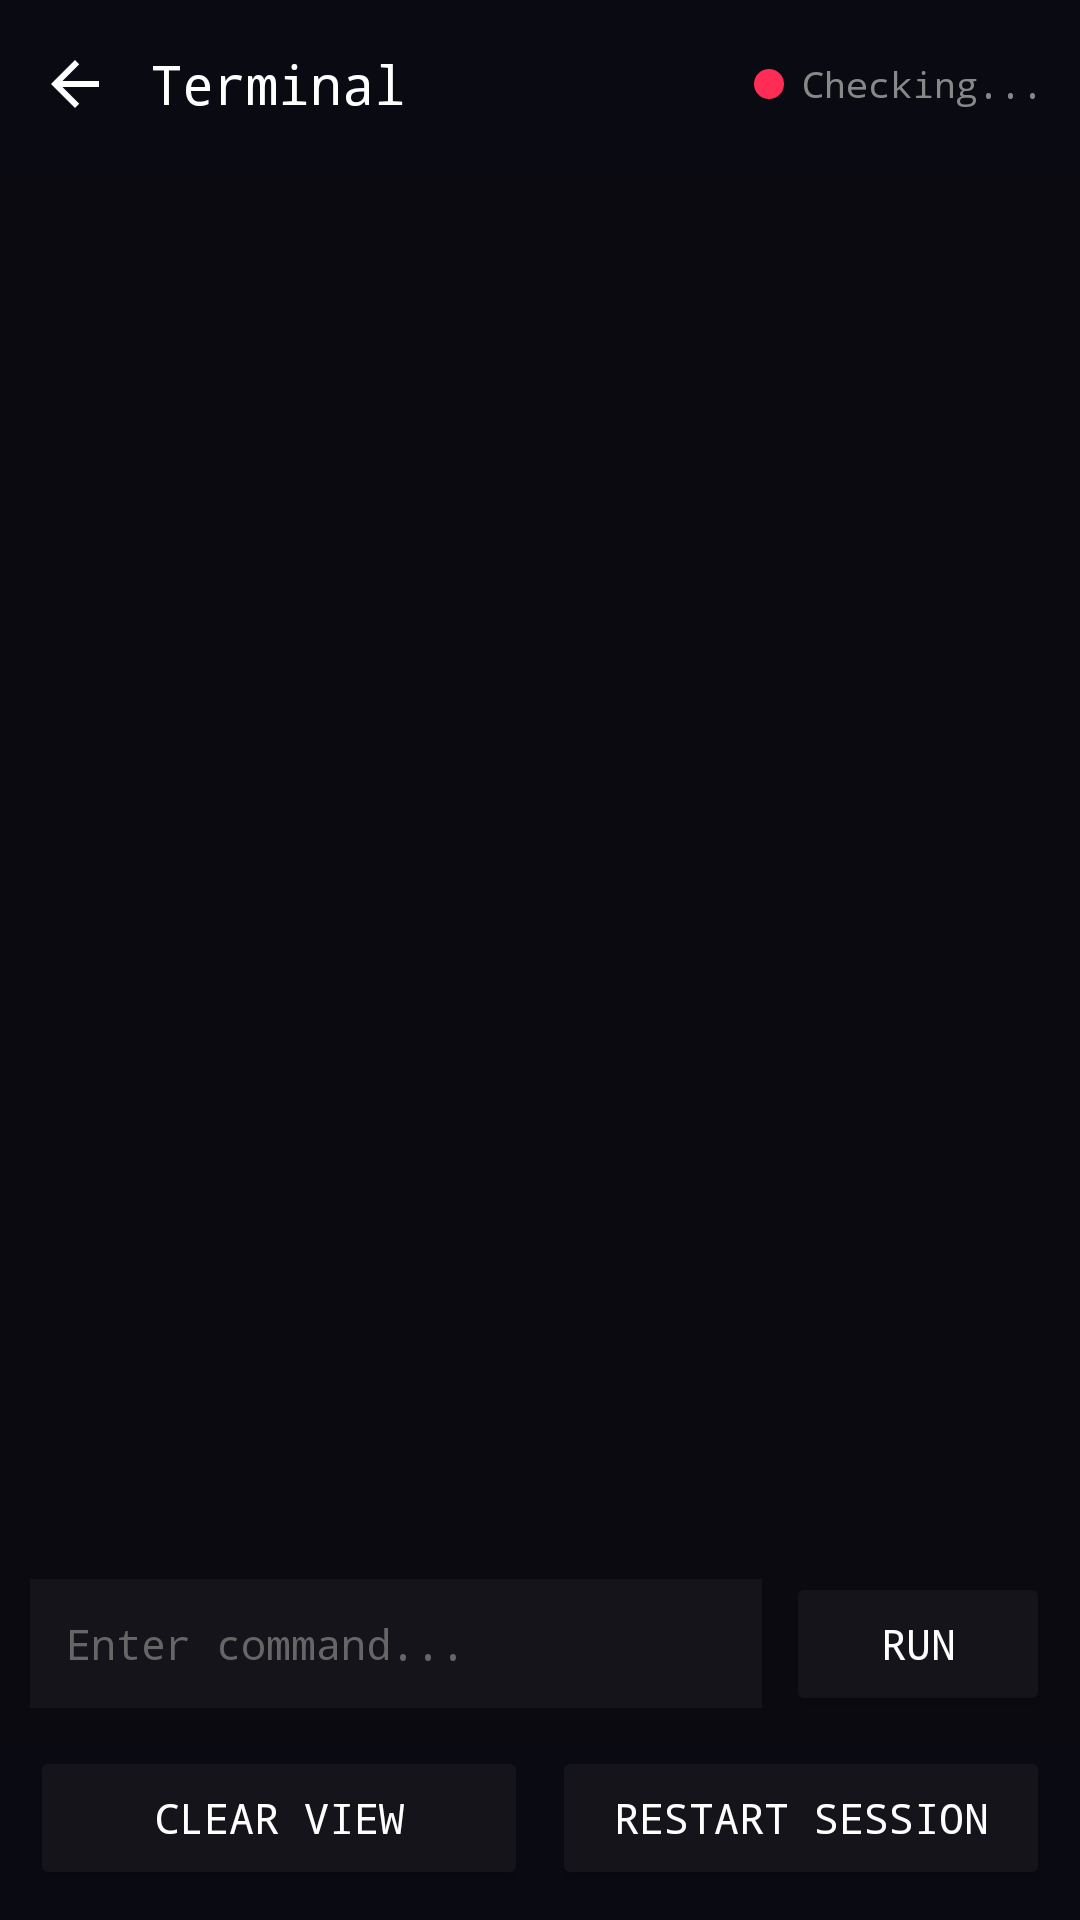

Named icons in this screenshot (1080w x 1920h) and their centers, [x,y]:
Back: [75,84]
